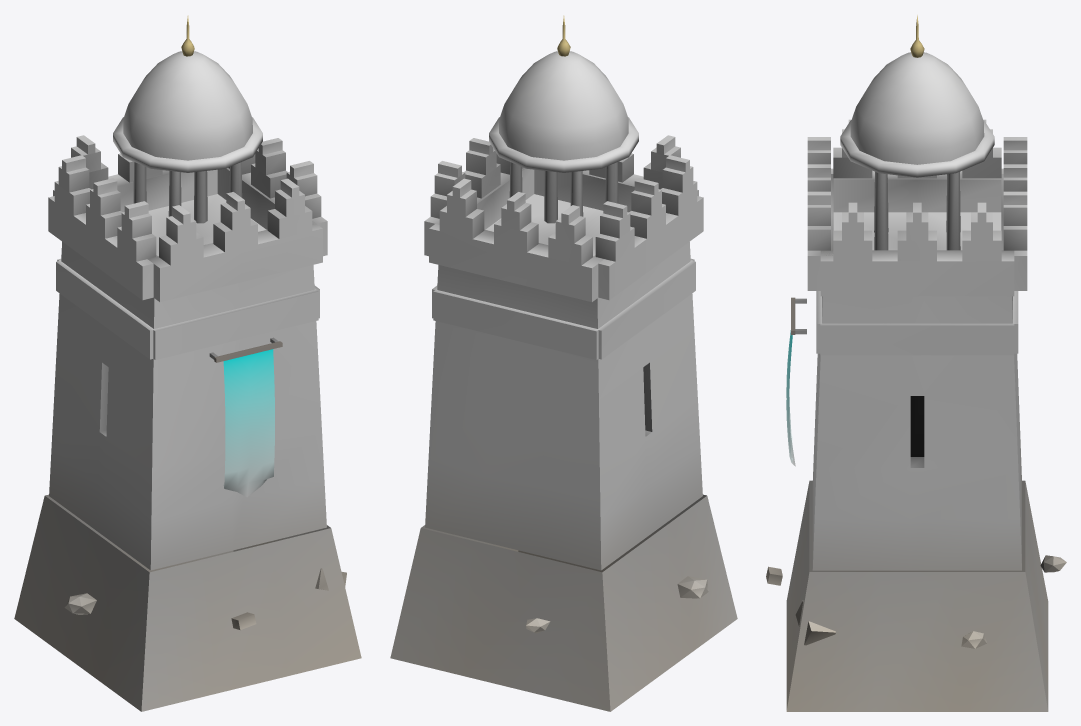
The model's file is arrow_tower_caliphate.glb.
The picture shows the model from 3 angles, left to right: view 1: azimuth 30°, elevation 25°; view 2: azimuth 150°, elevation 25°; view 3: azimuth 270°, elevation 25°; orthographic projection. The views are drawn at different scales.
Visible parts, largest first — view 1: arrow_tower_caliphate; view 2: arrow_tower_caliphate; view 3: arrow_tower_caliphate.
Part boxes in pixels (x1,y1,x2,y2): arrow_tower_caliphate: [14, 15, 361, 711]; arrow_tower_caliphate: [390, 15, 737, 711]; arrow_tower_caliphate: [766, 15, 1066, 711].
Size of the model in its own units: 4.58 by 10.84 by 4.6.
